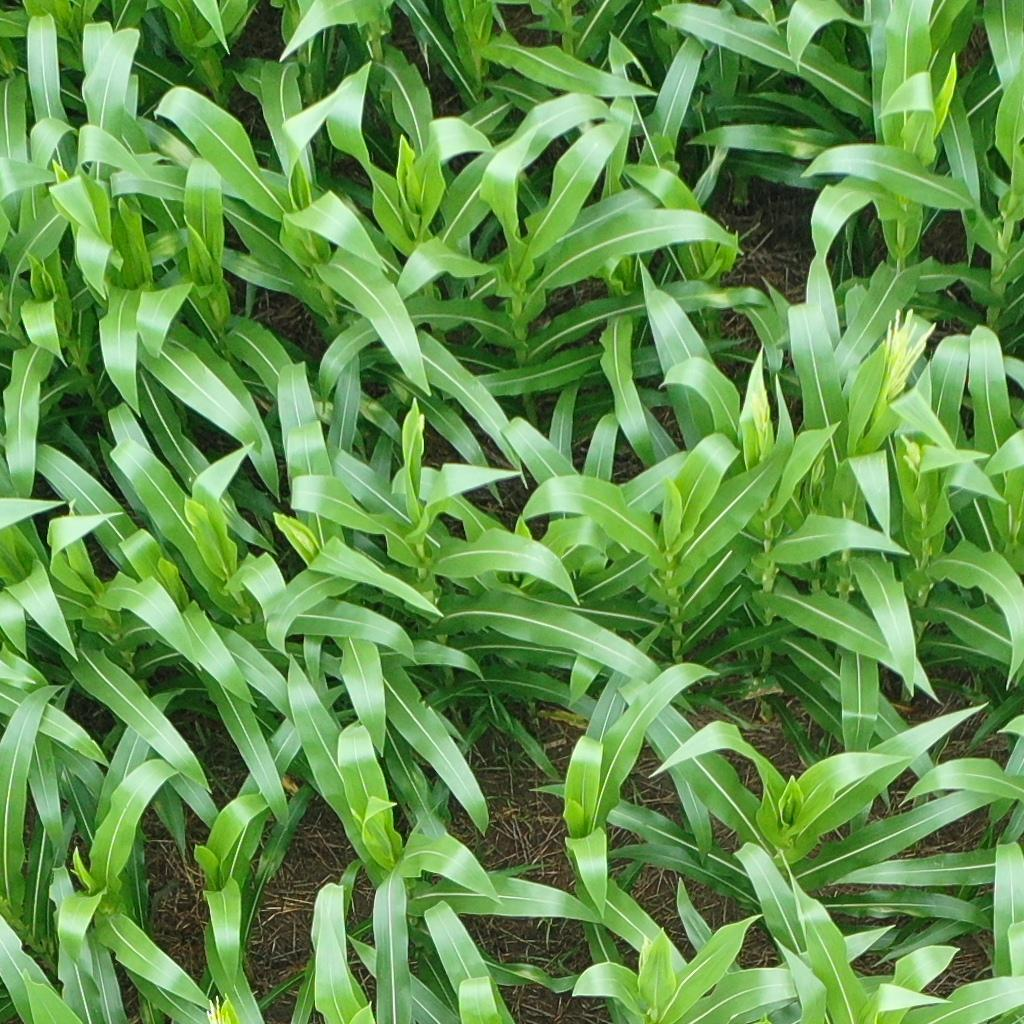Tassel: (882, 306, 936, 400), (746, 373, 772, 442), (277, 522, 317, 558), (202, 989, 236, 1024), (897, 432, 922, 476), (637, 934, 655, 969)
